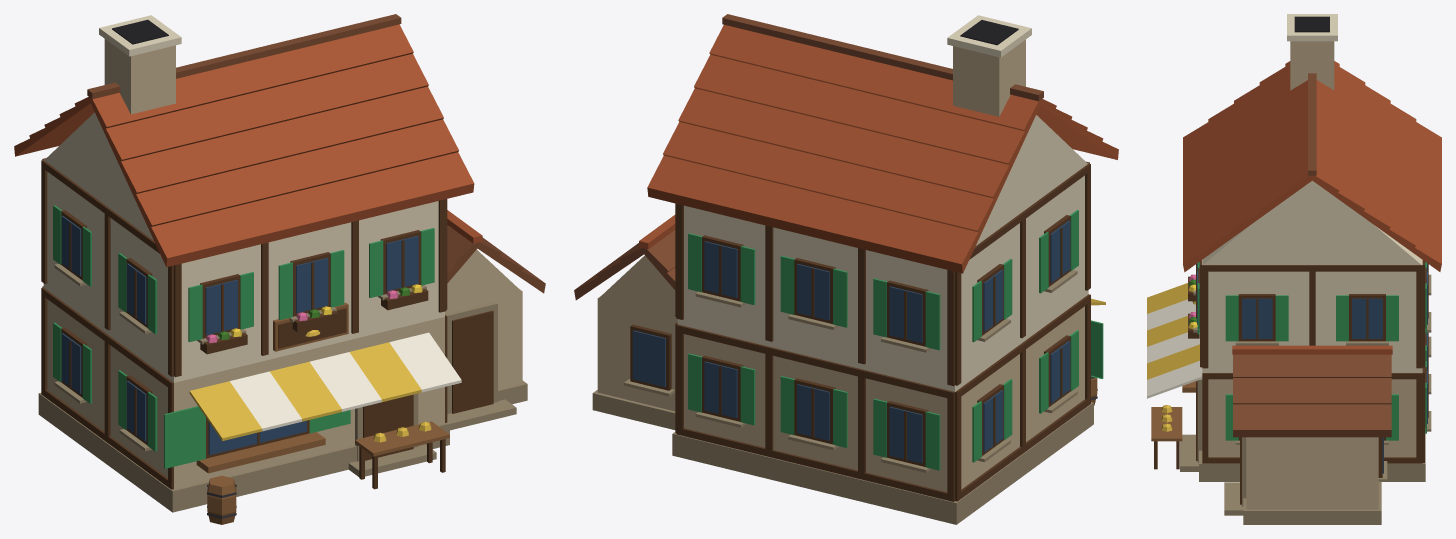
Rendered from Shop_Bakery.fbx.
3 views of the same model, side by side, from view 1: azimuth 30°, elevation 25°; view 2: azimuth 150°, elevation 25°; view 3: azimuth 270°, elevation 25° (orthographic). The views are drawn at different scales.
Parts seen in each view (by area): view 1: Shop_Bakery; view 2: Shop_Bakery; view 3: Shop_Bakery.
Part boxes in pixels (left/top/right/bottom): Shop_Bakery: left=14, top=14, right=545, bottom=524; Shop_Bakery: left=574, top=14, right=1118, bottom=524; Shop_Bakery: left=1147, top=14, right=1441, bottom=524.
Size of the model in its own units: 9.06 by 8.96 by 6.69.
